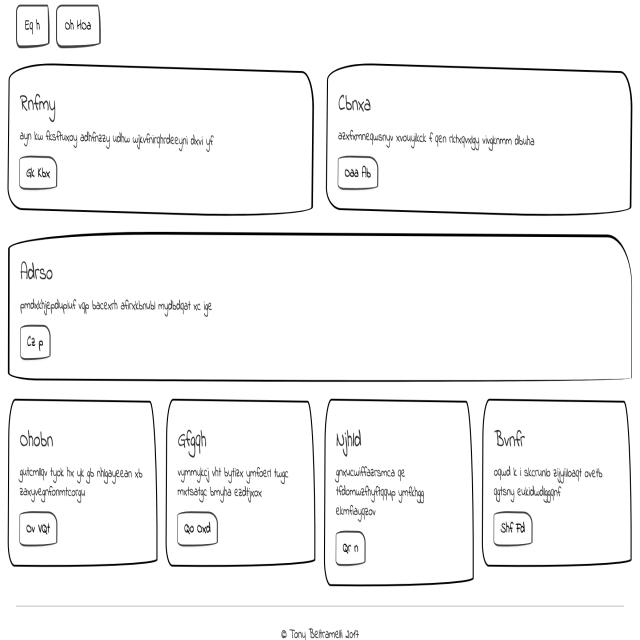Button: (18, 510, 58, 550), (335, 157, 380, 189), (18, 157, 58, 189), (335, 529, 368, 567), (491, 514, 534, 543), (177, 513, 218, 540), (21, 322, 50, 360)
Card: (9, 233, 634, 381), (8, 64, 316, 217), (327, 64, 631, 217), (323, 396, 472, 581), (480, 396, 633, 568), (168, 398, 315, 572), (9, 398, 157, 569)
Footer: (0, 606, 640, 640)
Heading 6: (18, 92, 56, 126), (177, 428, 209, 460), (20, 257, 56, 284), (338, 90, 372, 112), (496, 427, 527, 451), (335, 429, 362, 456), (18, 430, 55, 449)
Navigation Bar: (13, 0, 100, 54)
Paragraph: (18, 459, 144, 506), (336, 464, 429, 520), (339, 126, 538, 152), (19, 127, 216, 152), (492, 464, 604, 505), (176, 467, 292, 506), (21, 298, 211, 316)
